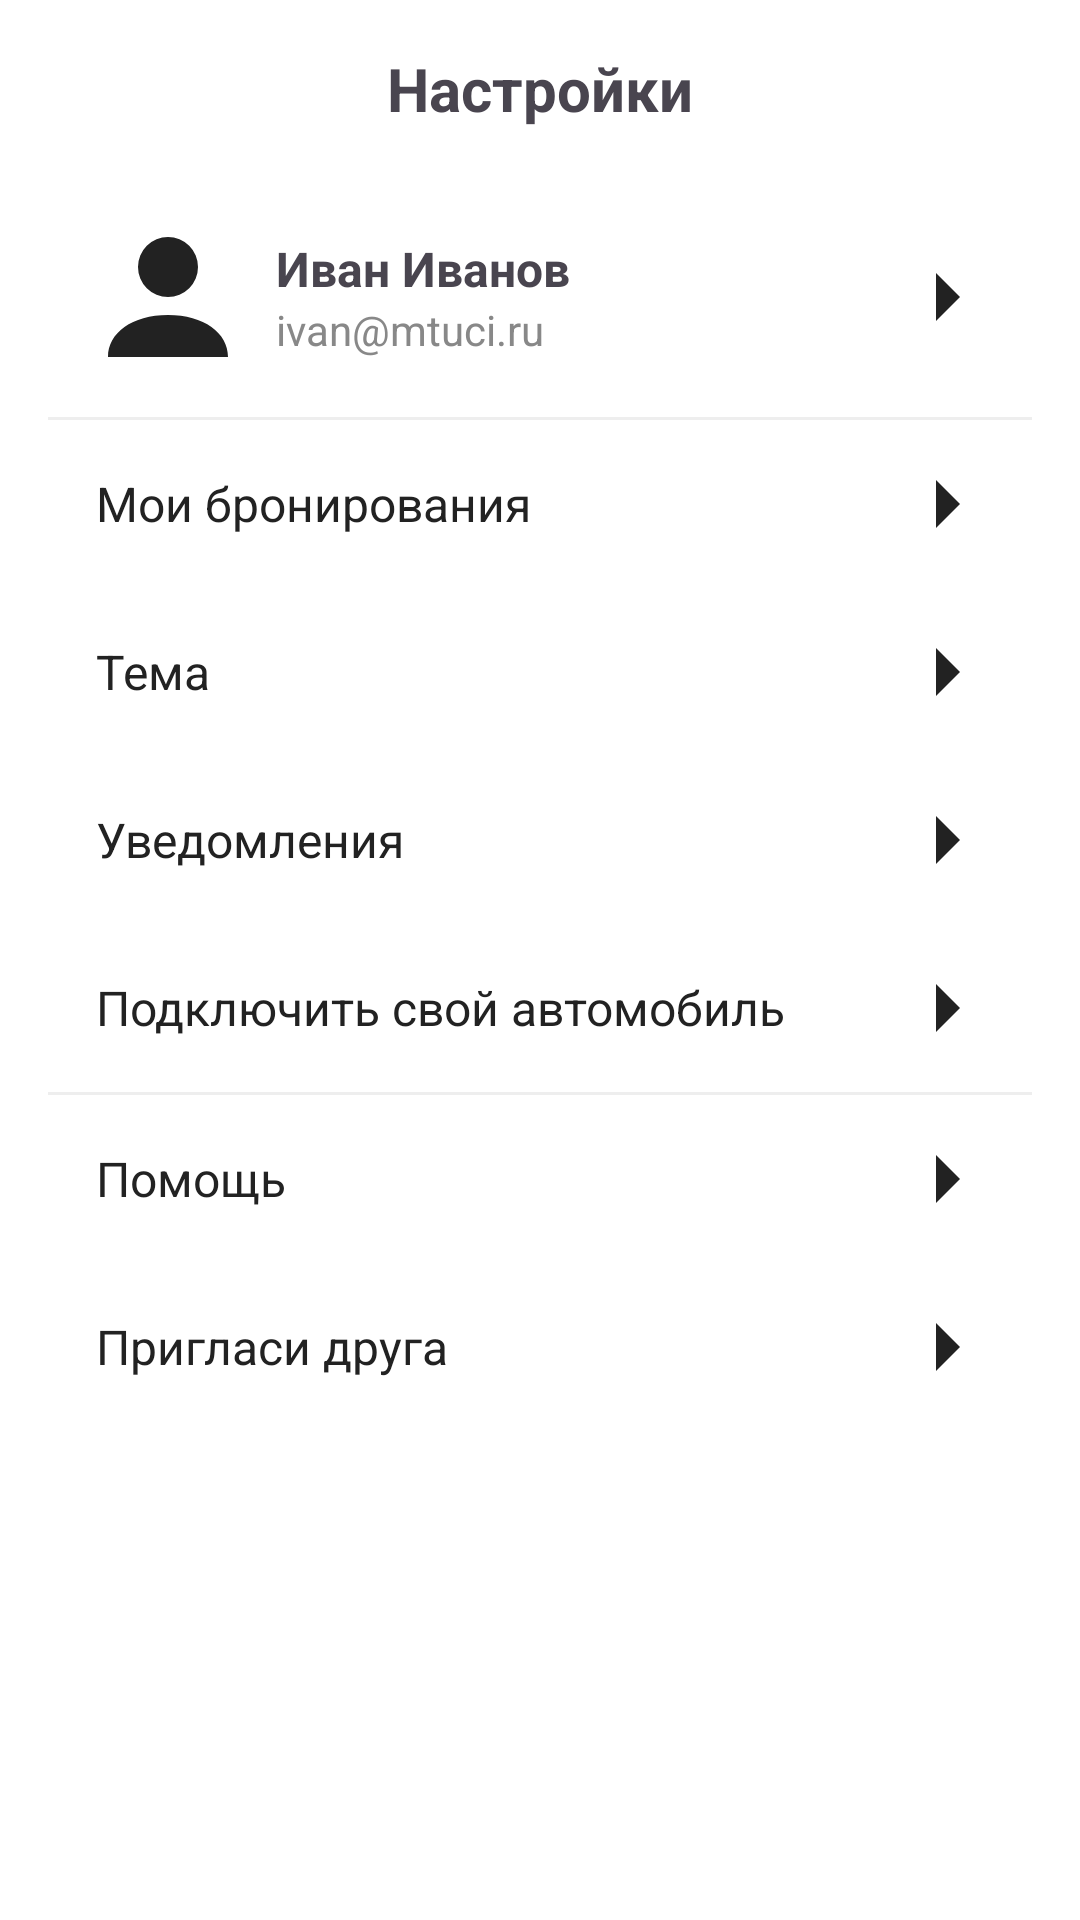

Named icons in this screenshot (1080 x 1920) and their centers, (x=x, y=y):
arrow forward: (x=948, y=504), (x=948, y=672), (x=948, y=840), (x=948, y=1008), (x=948, y=1179), (x=948, y=1347)
Next: (x=948, y=297)
User photo: (x=168, y=297)
